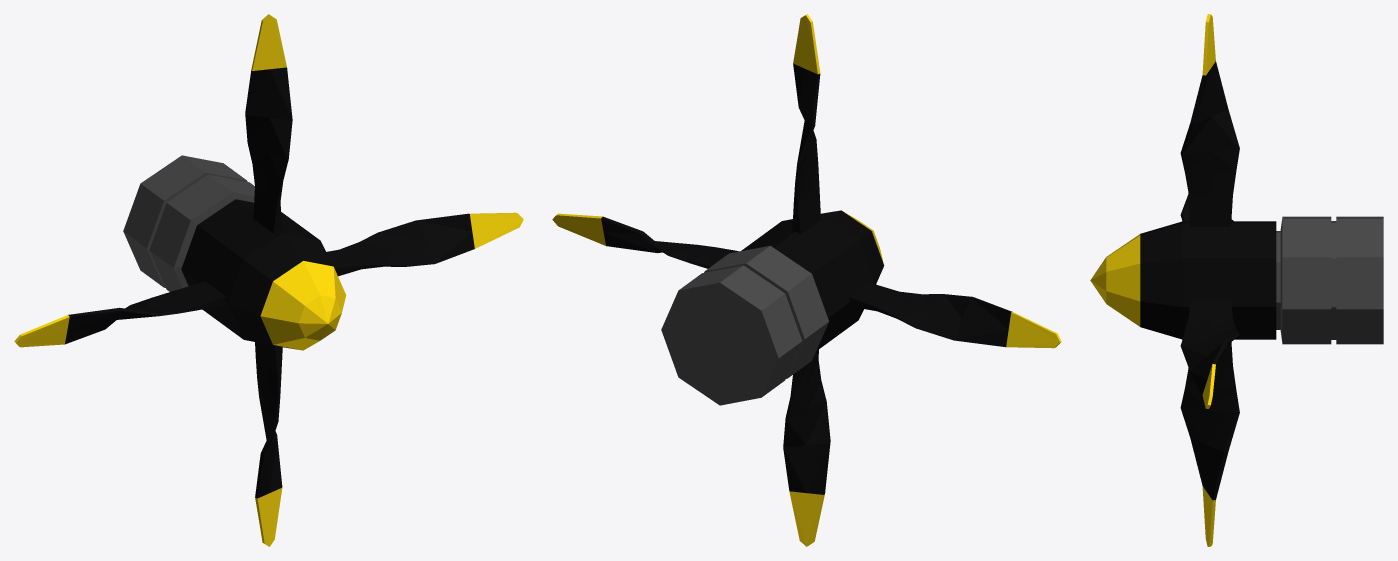
The model's file is propeller.obj.
3 views of the same model, side by side, from view 1: azimuth 30°, elevation 25°; view 2: azimuth 150°, elevation 25°; view 3: azimuth 270°, elevation 25° (orthographic).
Size of the model in its own units: 9.34 by 9.34 by 4.66.
